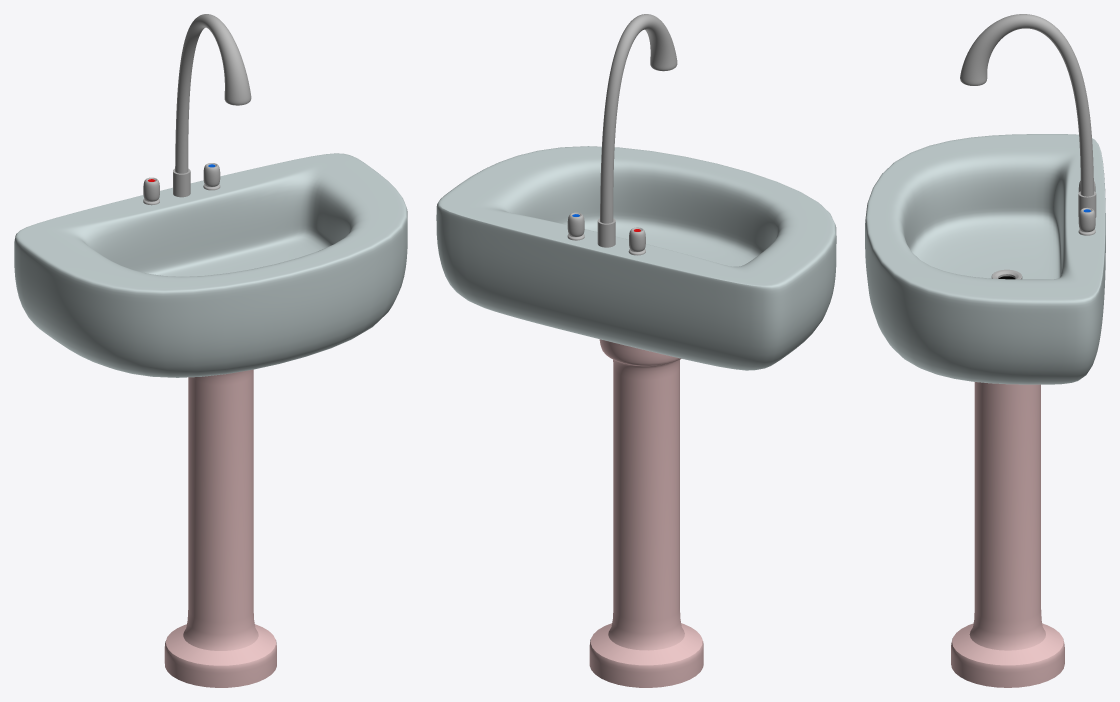
File: Sink.fbx
3 views of the same model, side by side, from view 1: azimuth 30°, elevation 25°; view 2: azimuth 150°, elevation 25°; view 3: azimuth 270°, elevation 25° (orthographic).
Visible parts, largest first — view 1: Sink_United; view 2: Sink_United; view 3: Sink_United.
Boxes of the visible parts, <box> form: Sink_United: <box>14,14,407,687</box>; Sink_United: <box>436,14,836,687</box>; Sink_United: <box>865,14,1105,687</box>.
Size of the model in its own units: 72.99 by 130 by 43.81.
